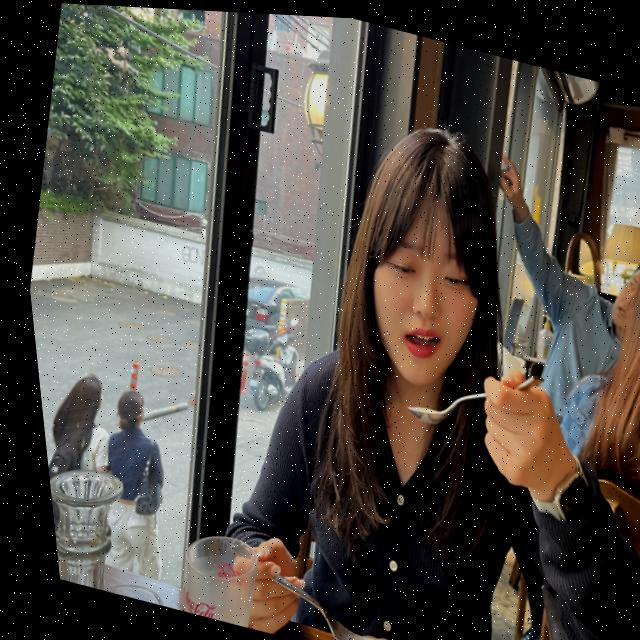eating-person: (147, 52, 640, 640)
